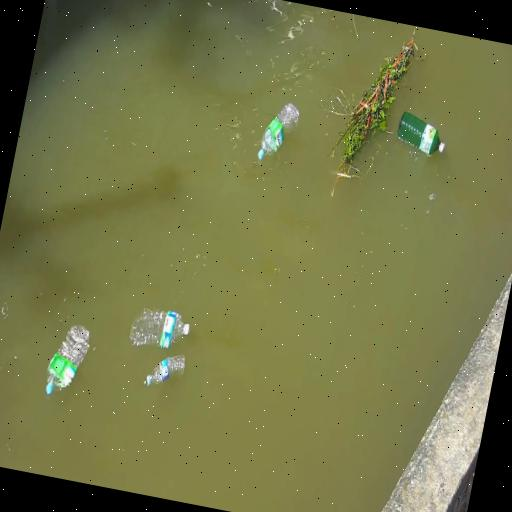plastic: (40, 320, 98, 406), (128, 299, 196, 358), (254, 99, 304, 168), (393, 106, 452, 158), (138, 344, 192, 396)
twig: (322, 22, 426, 178)
